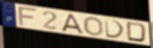2: (42, 11, 58, 31)
A: (61, 13, 84, 35)
D: (104, 18, 127, 40), (126, 21, 148, 43)
F: (17, 6, 39, 27)
O: (84, 16, 105, 37)
